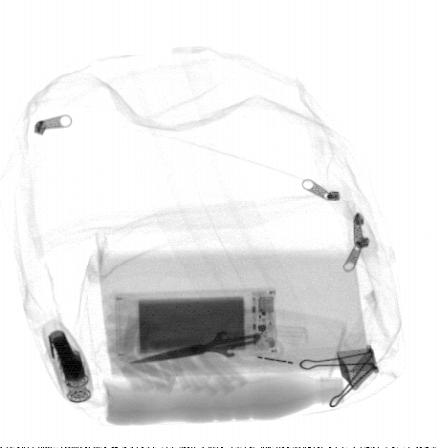Powerbank: (110, 283, 278, 363)
Scissors: (129, 306, 287, 367)
